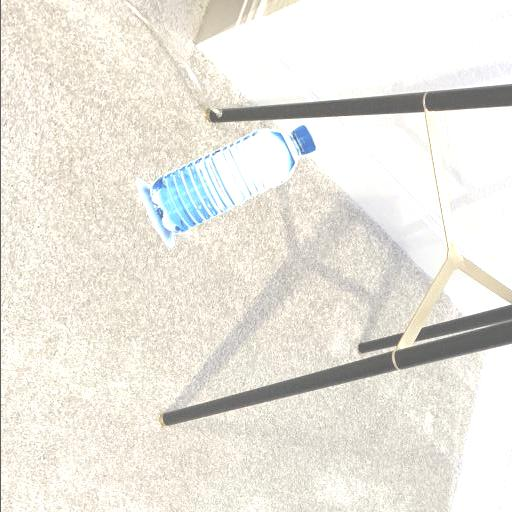bottle: (134, 122, 322, 252)
